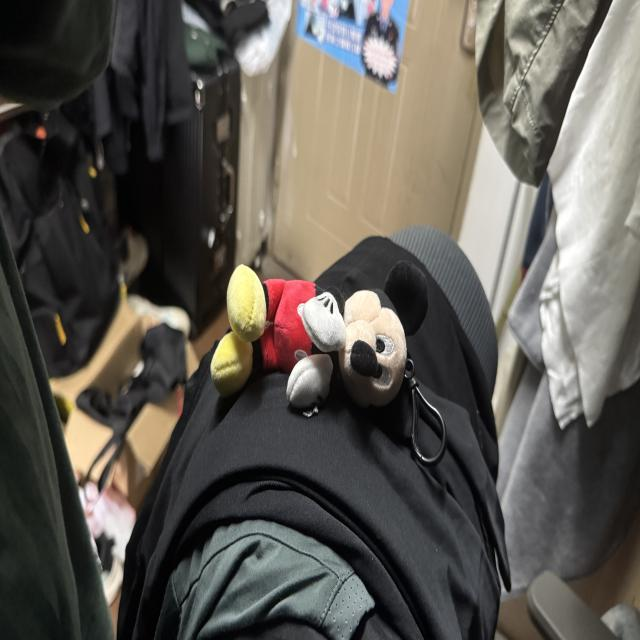mickey: (211, 262, 428, 408)
